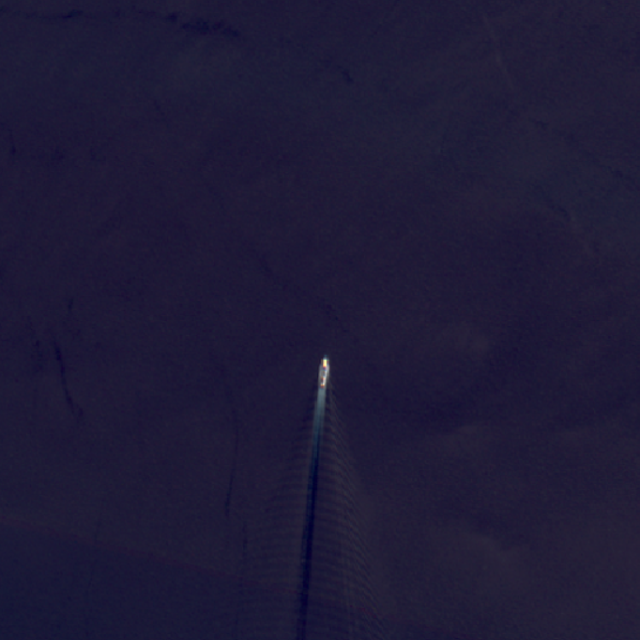wake: (221, 333, 412, 586)
